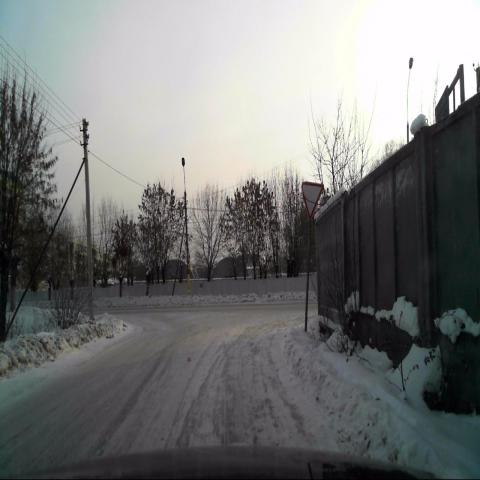2_4: (301, 181, 323, 218)
